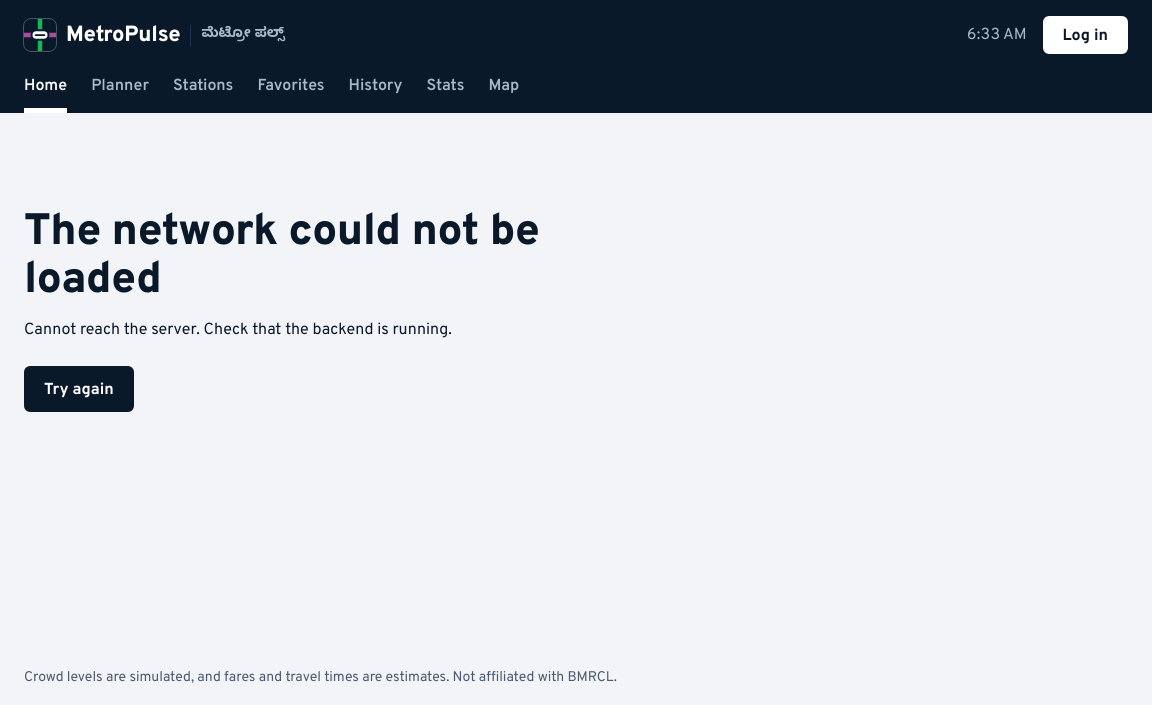
Test: a server failure is explained and can be retried
expect the message shows "Cannot reach the server": met, box [24,320,452,340]
Step 1. Click the button "Try again" → (79, 389), box [24,366,134,412]
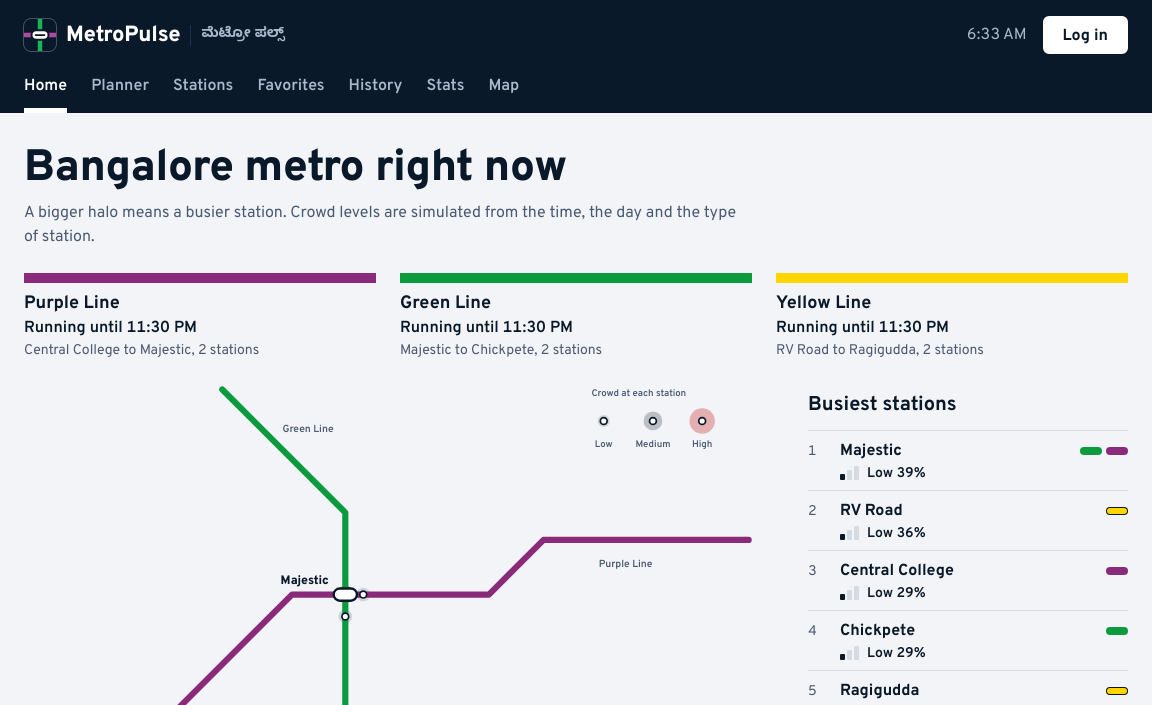
expect the heading "Bangalore metro right now" is shown: met, box [24,141,567,197]
